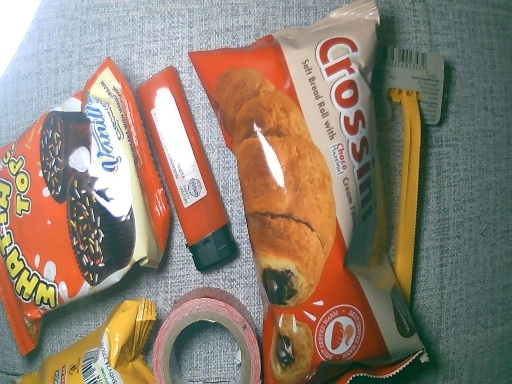plastic: (203, 3, 425, 384), (1, 60, 175, 356), (1, 295, 158, 384)
trash: (365, 42, 452, 322), (135, 64, 237, 270), (150, 291, 264, 384)
